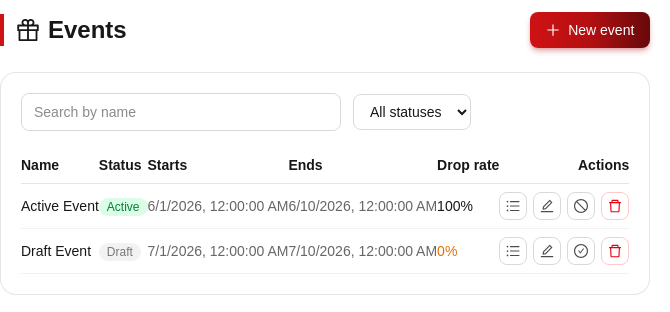
Test: filters events by status
The image size is (670, 312).
Check: the text "Active Event" is shown, box [21,184,99,228]
Select "Active" in the dropdown at (412, 112), box [353,94,471,130]
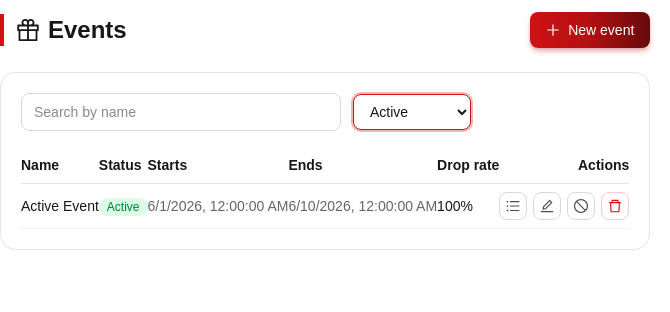
Check: the text "Active Event" is shown, box [21,184,99,228]
Check: the text "Draft Event" is gone
